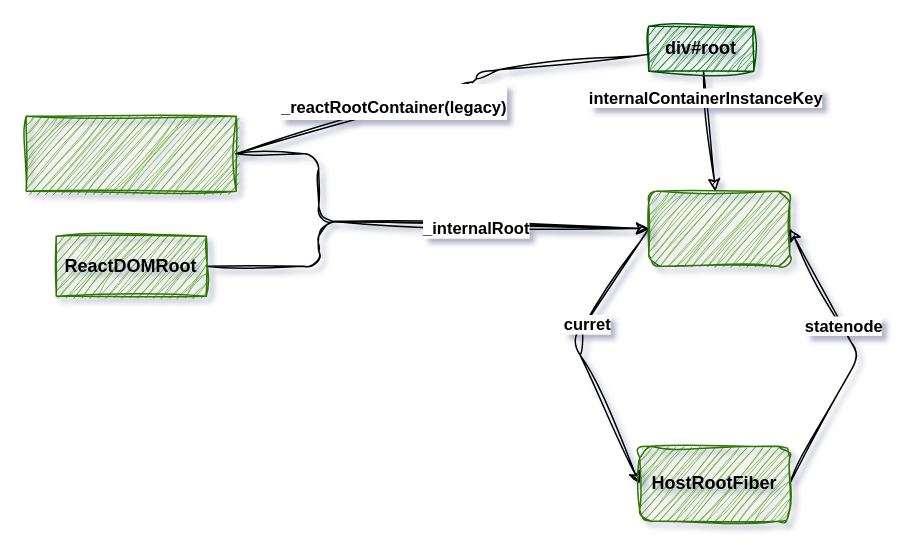
Image size: 918x557. Some labels were removed from this diagram. The centre of each missing label's shape, as x and y in pixels:
FiberRoot: [718,228]
ReactDOMBlockingRoot: [130,153]
